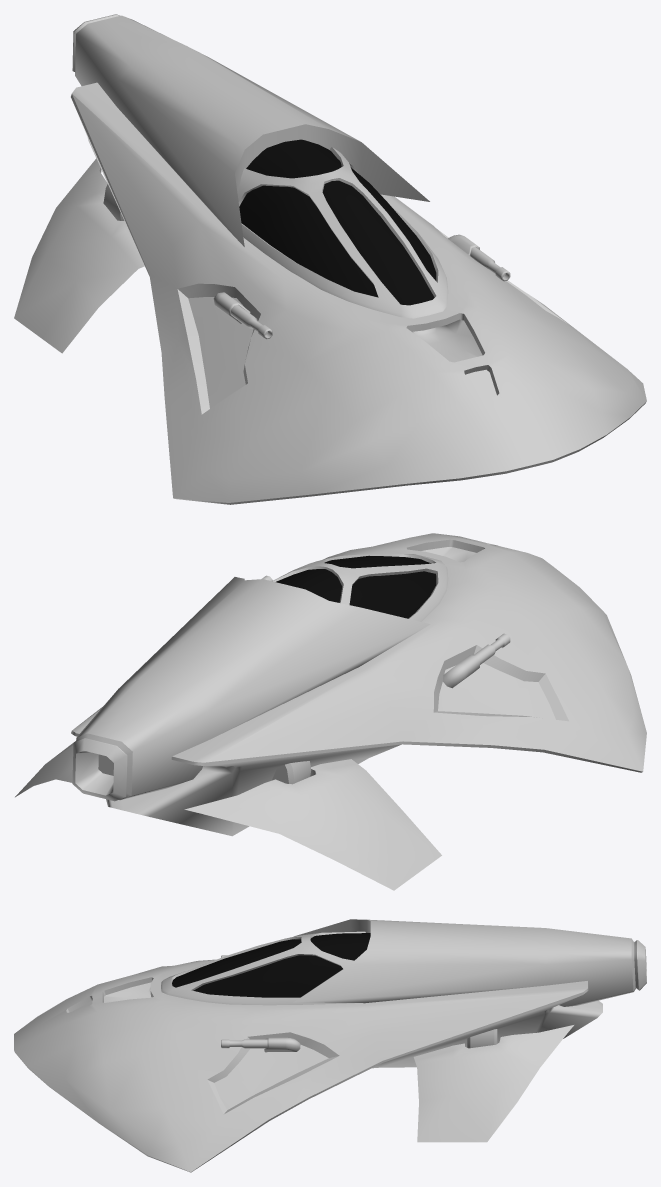
Rendered from eveisen00.FBX.
The picture shows the model from 3 angles, top to bottom: view 1: azimuth 30°, elevation 25°; view 2: azimuth 150°, elevation 25°; view 3: azimuth 270°, elevation 25°; orthographic projection. The views are drawn at different scales.
Parts seen in each view (by area): view 1: mainbody, engine, cockpit, wing_r, window_frame; view 2: mainbody, engine, wing_r, cockpit, window_frame, wing_l, gun_r; view 3: mainbody, engine, wing_l, cockpit, window_frame, gun_l, recoil_l.
Boxes of the visible parts, <box> form: mainbody: <box>71,82,646,504</box>; engine: <box>72,14,429,246</box>; cockpit: <box>239,139,436,305</box>; wing_r: <box>14,158,144,353</box>; window_frame: <box>237,147,448,318</box>; mainbody: <box>71,533,646,836</box>; engine: <box>72,577,430,801</box>; wing_r: <box>184,759,441,890</box>; cockpit: <box>276,555,436,618</box>; window_frame: <box>272,554,448,621</box>; wing_l: <box>15,741,75,797</box>; gun_r: <box>442,655,479,688</box>; mainbody: <box>14,959,602,1172</box>; engine: <box>293,919,646,1006</box>; wing_l: <box>413,1025,573,1142</box>; cockpit: <box>172,933,370,997</box>; window_frame: <box>161,931,365,1005</box>; gun_l: <box>264,1037,300,1052</box>; recoil_l: <box>221,1039,267,1048</box>.
Bounding box in the file's own units: 4.19 × 1.89 × 6.72.
